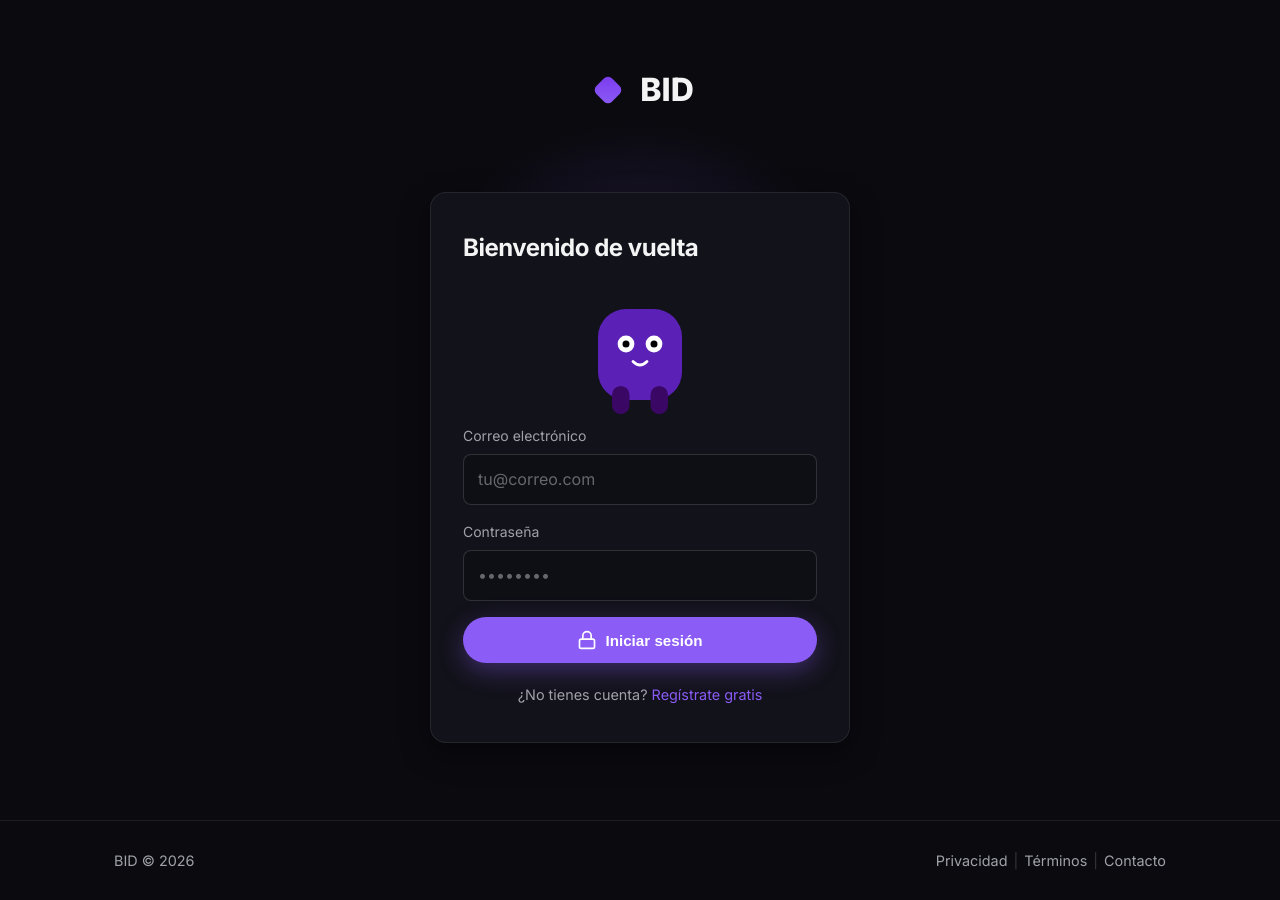
LoginPage › switches to register mode and creates an account
Expected: the heading "Bienvenido de vuelta" is shown, [463,233,698,262]
Click the link "Regístrate gratis".
click(707, 695)  # box [652,686,762,703]
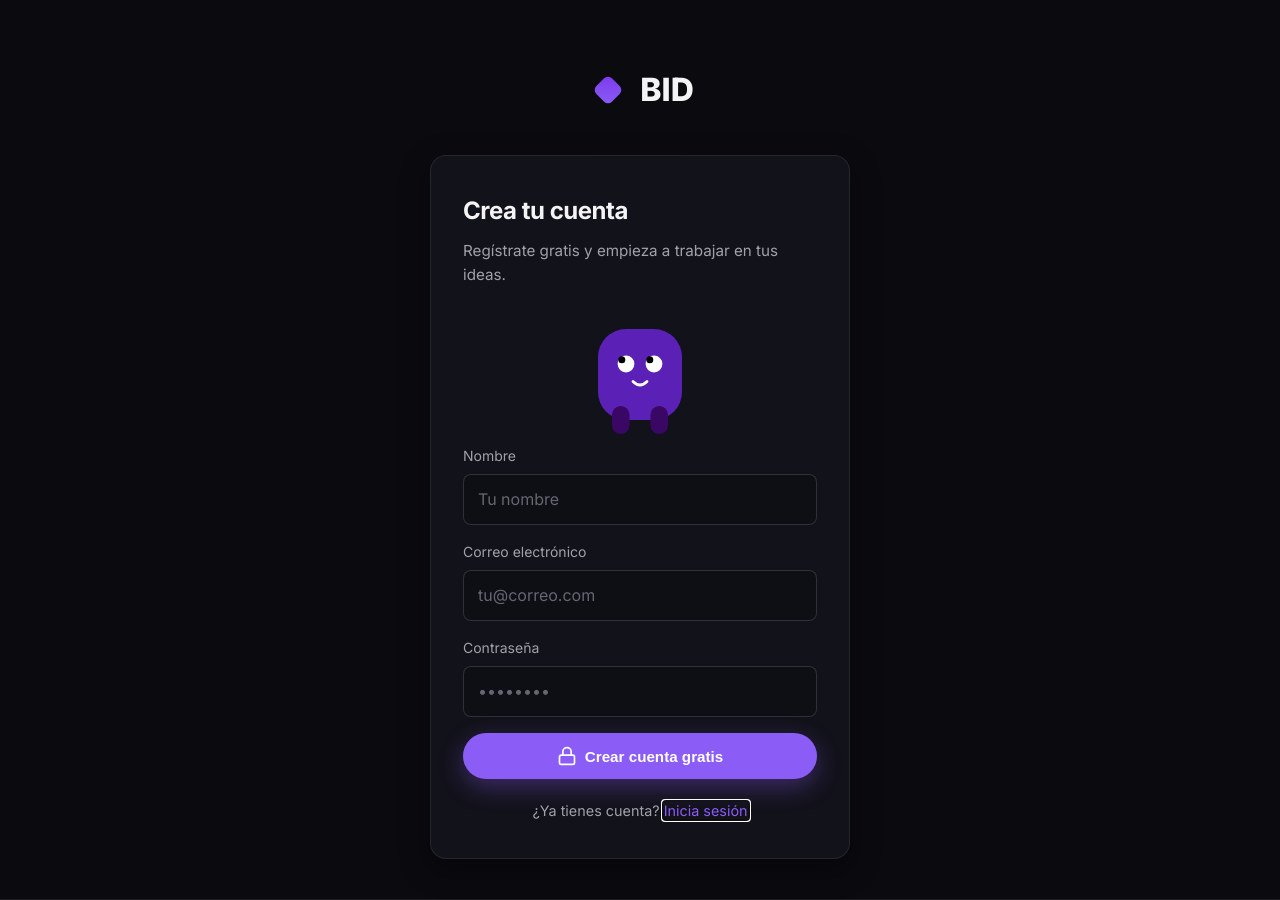
Result: the heading "Crea tu cuenta" is shown at [463,196,628,225]
Type "Ana Pérez" into the field labelled "Nombre".
click(640, 499); type("Ana Pérez")  # box [463,474,817,525]
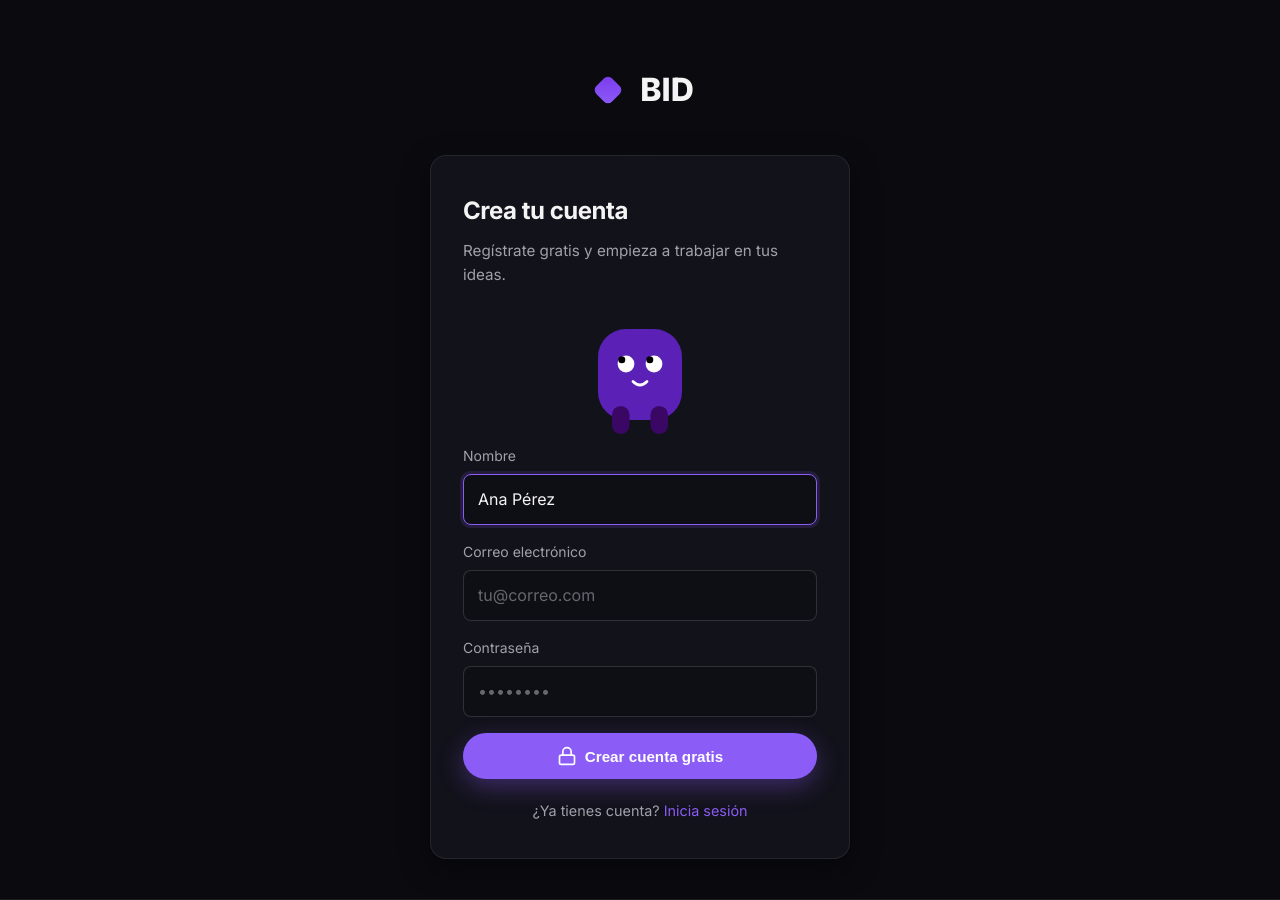
Type "ana@example.com" into the field labelled "Correo electrónico".
click(640, 595); type("ana@example.com")  # box [463,570,817,621]
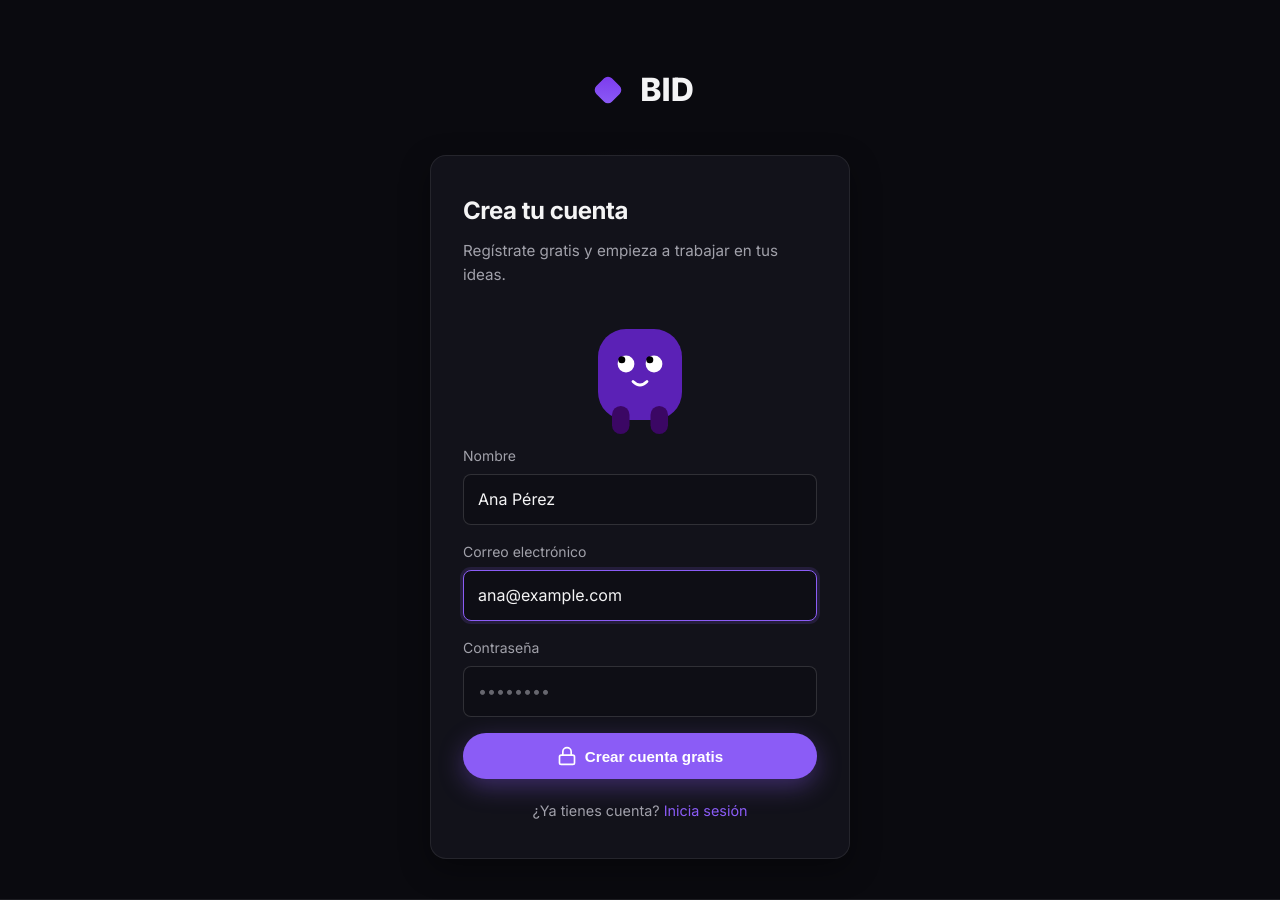
Type "secret" into the password field labelled "Contraseña".
click(640, 691); type("secret")  # box [463,666,817,717]
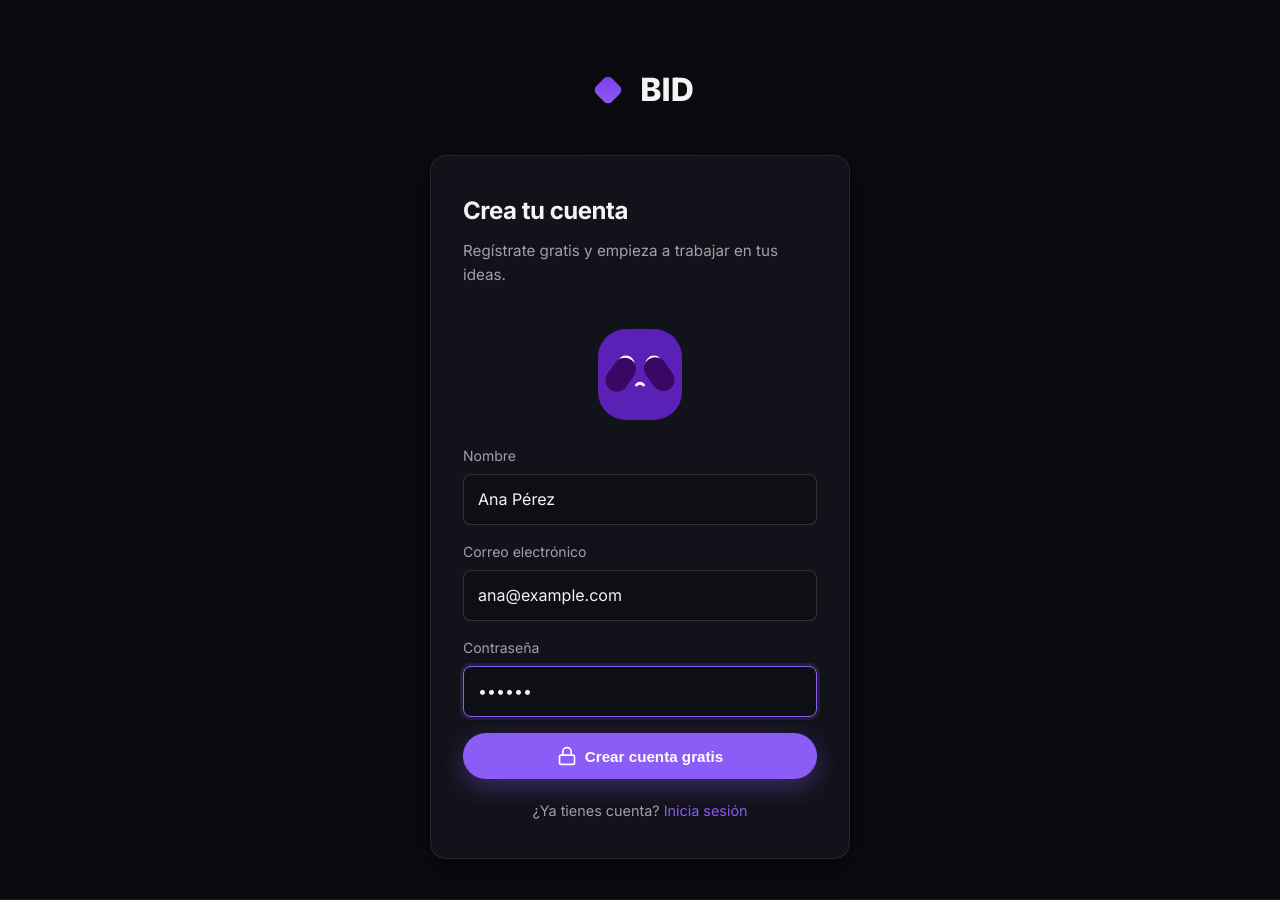
Click the button "Crear cuenta gratis".
click(640, 756)  # box [463,733,817,779]
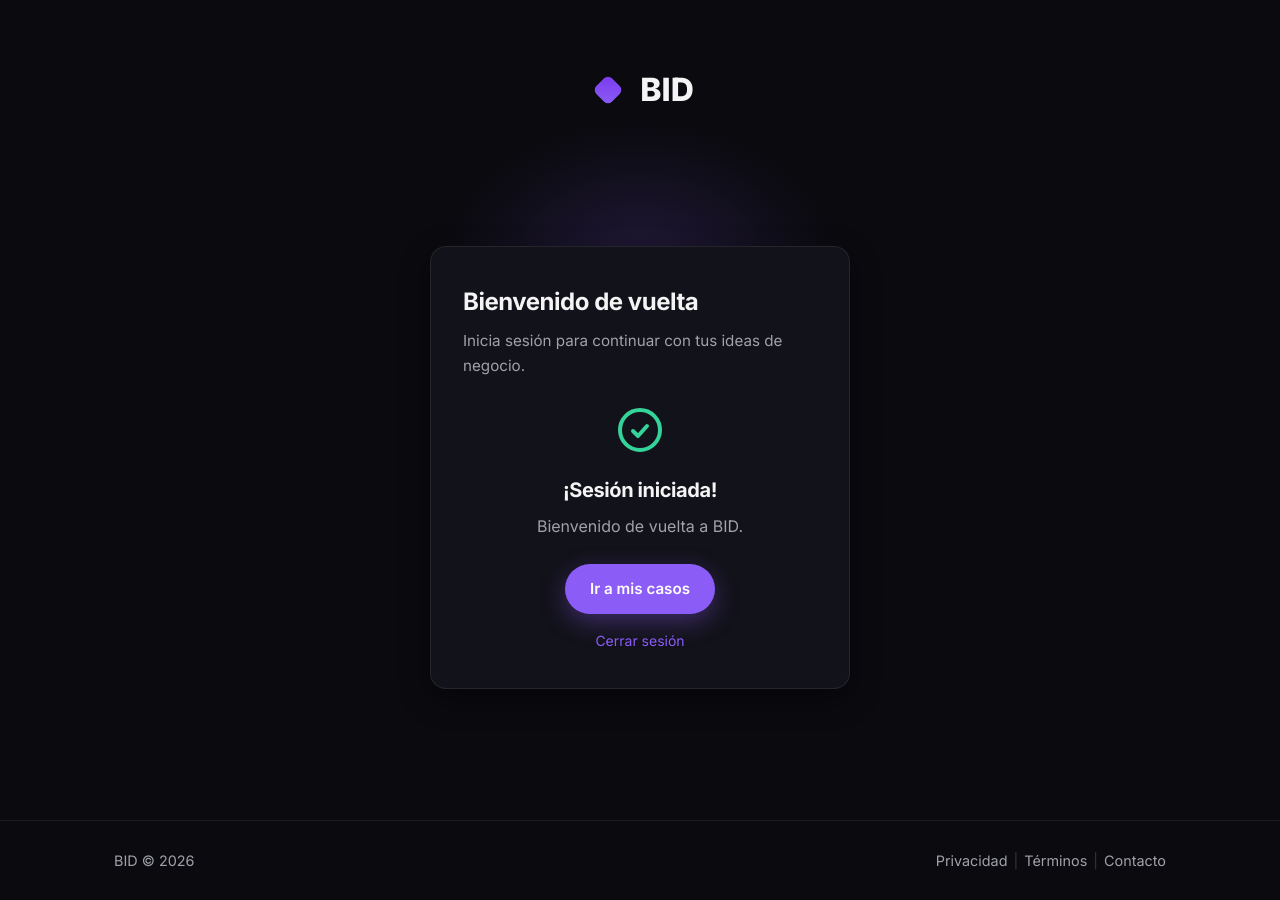
Result: the heading "¡Sesión iniciada!" is shown at [563,478,717,502]
Result: the link "Ir a mis casos" is shown at [565,564,715,614]
